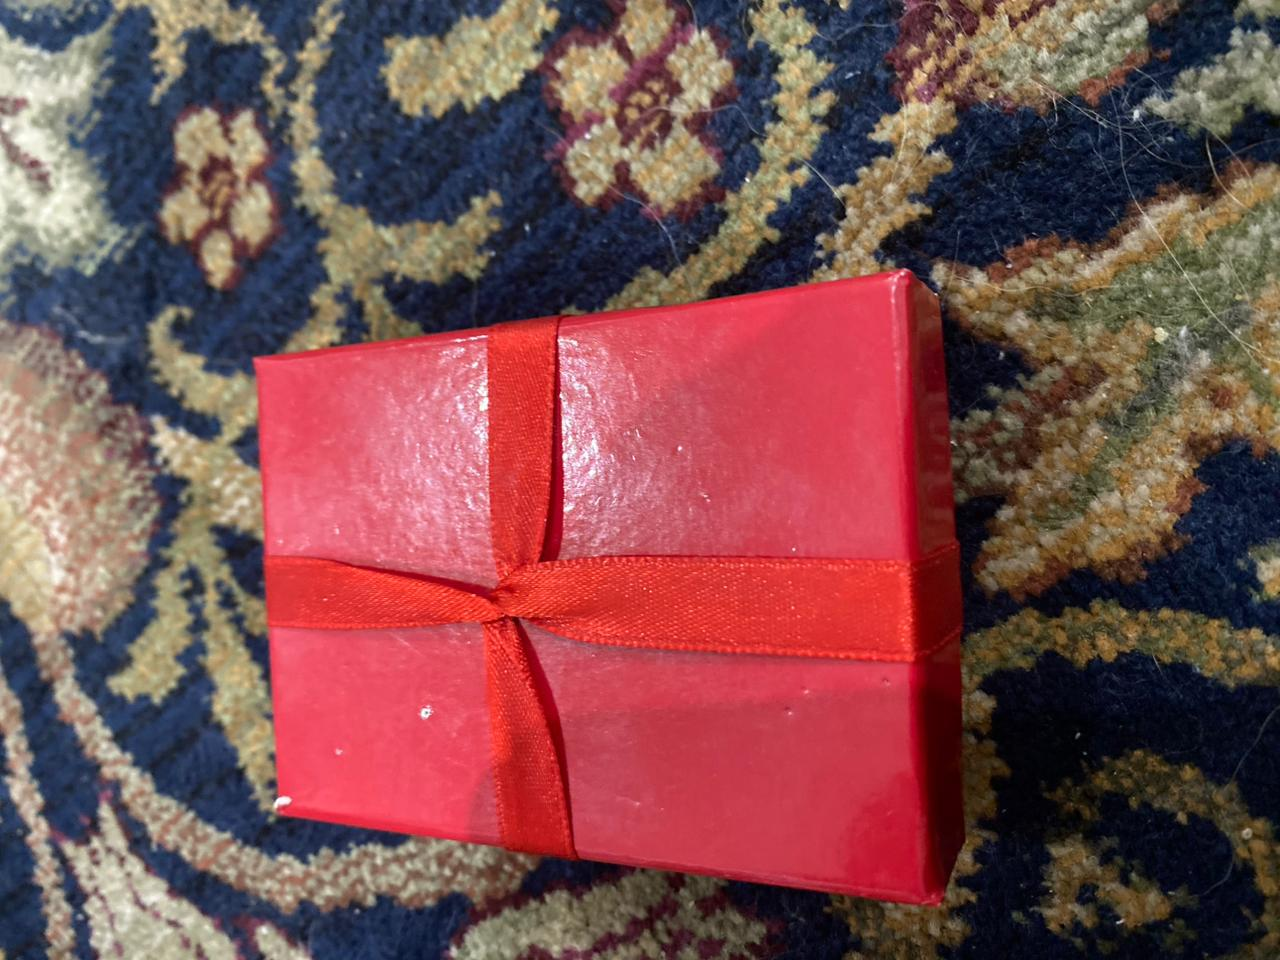Black Box: (249, 268, 969, 905)
